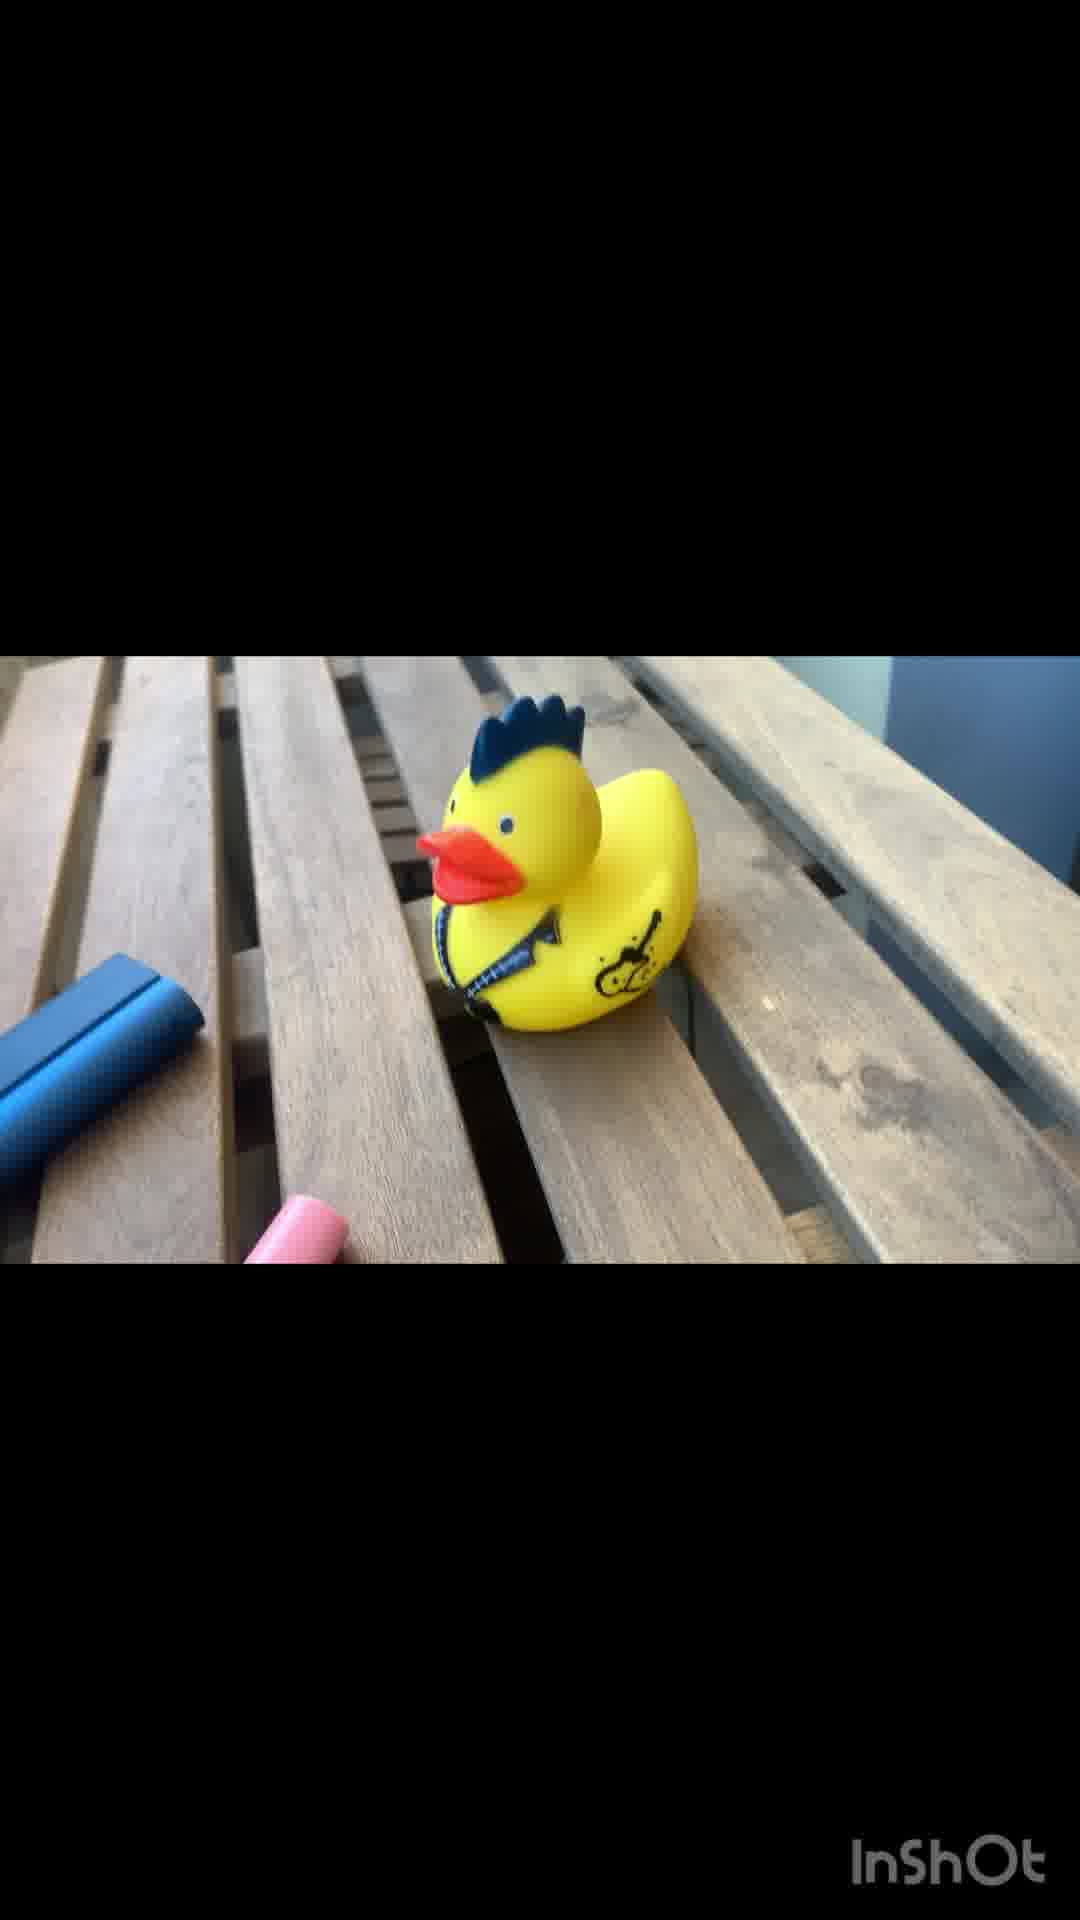duck: (444, 700, 690, 1046)
glo: (1, 944, 214, 1175)
lip balm: (244, 1178, 363, 1280)
